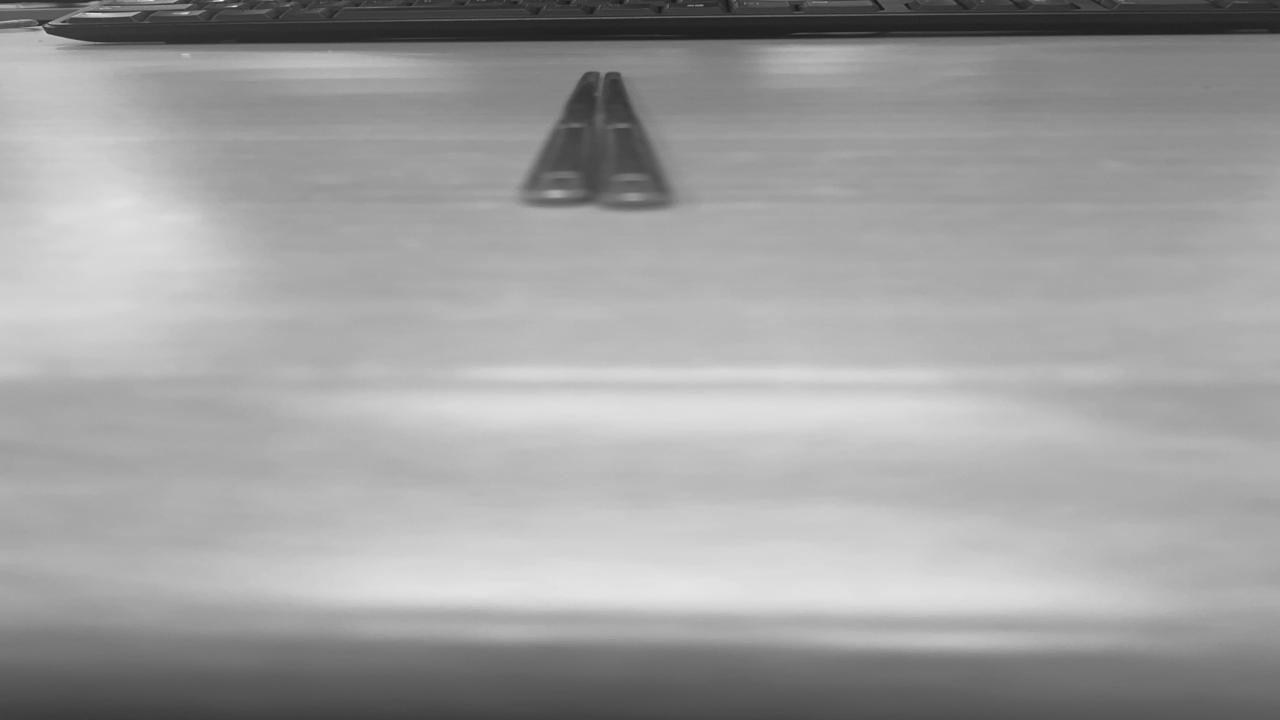chopstick: (522, 72, 664, 202)
